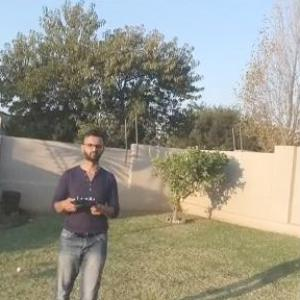follow: (47, 119, 123, 299)
